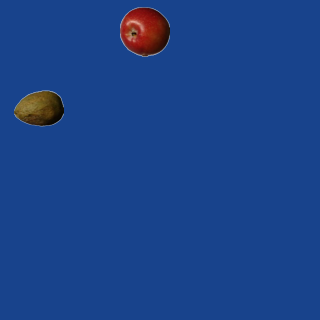Apple Braeburn: (119, 6, 169, 56)
Papaya: (13, 83, 63, 133)
